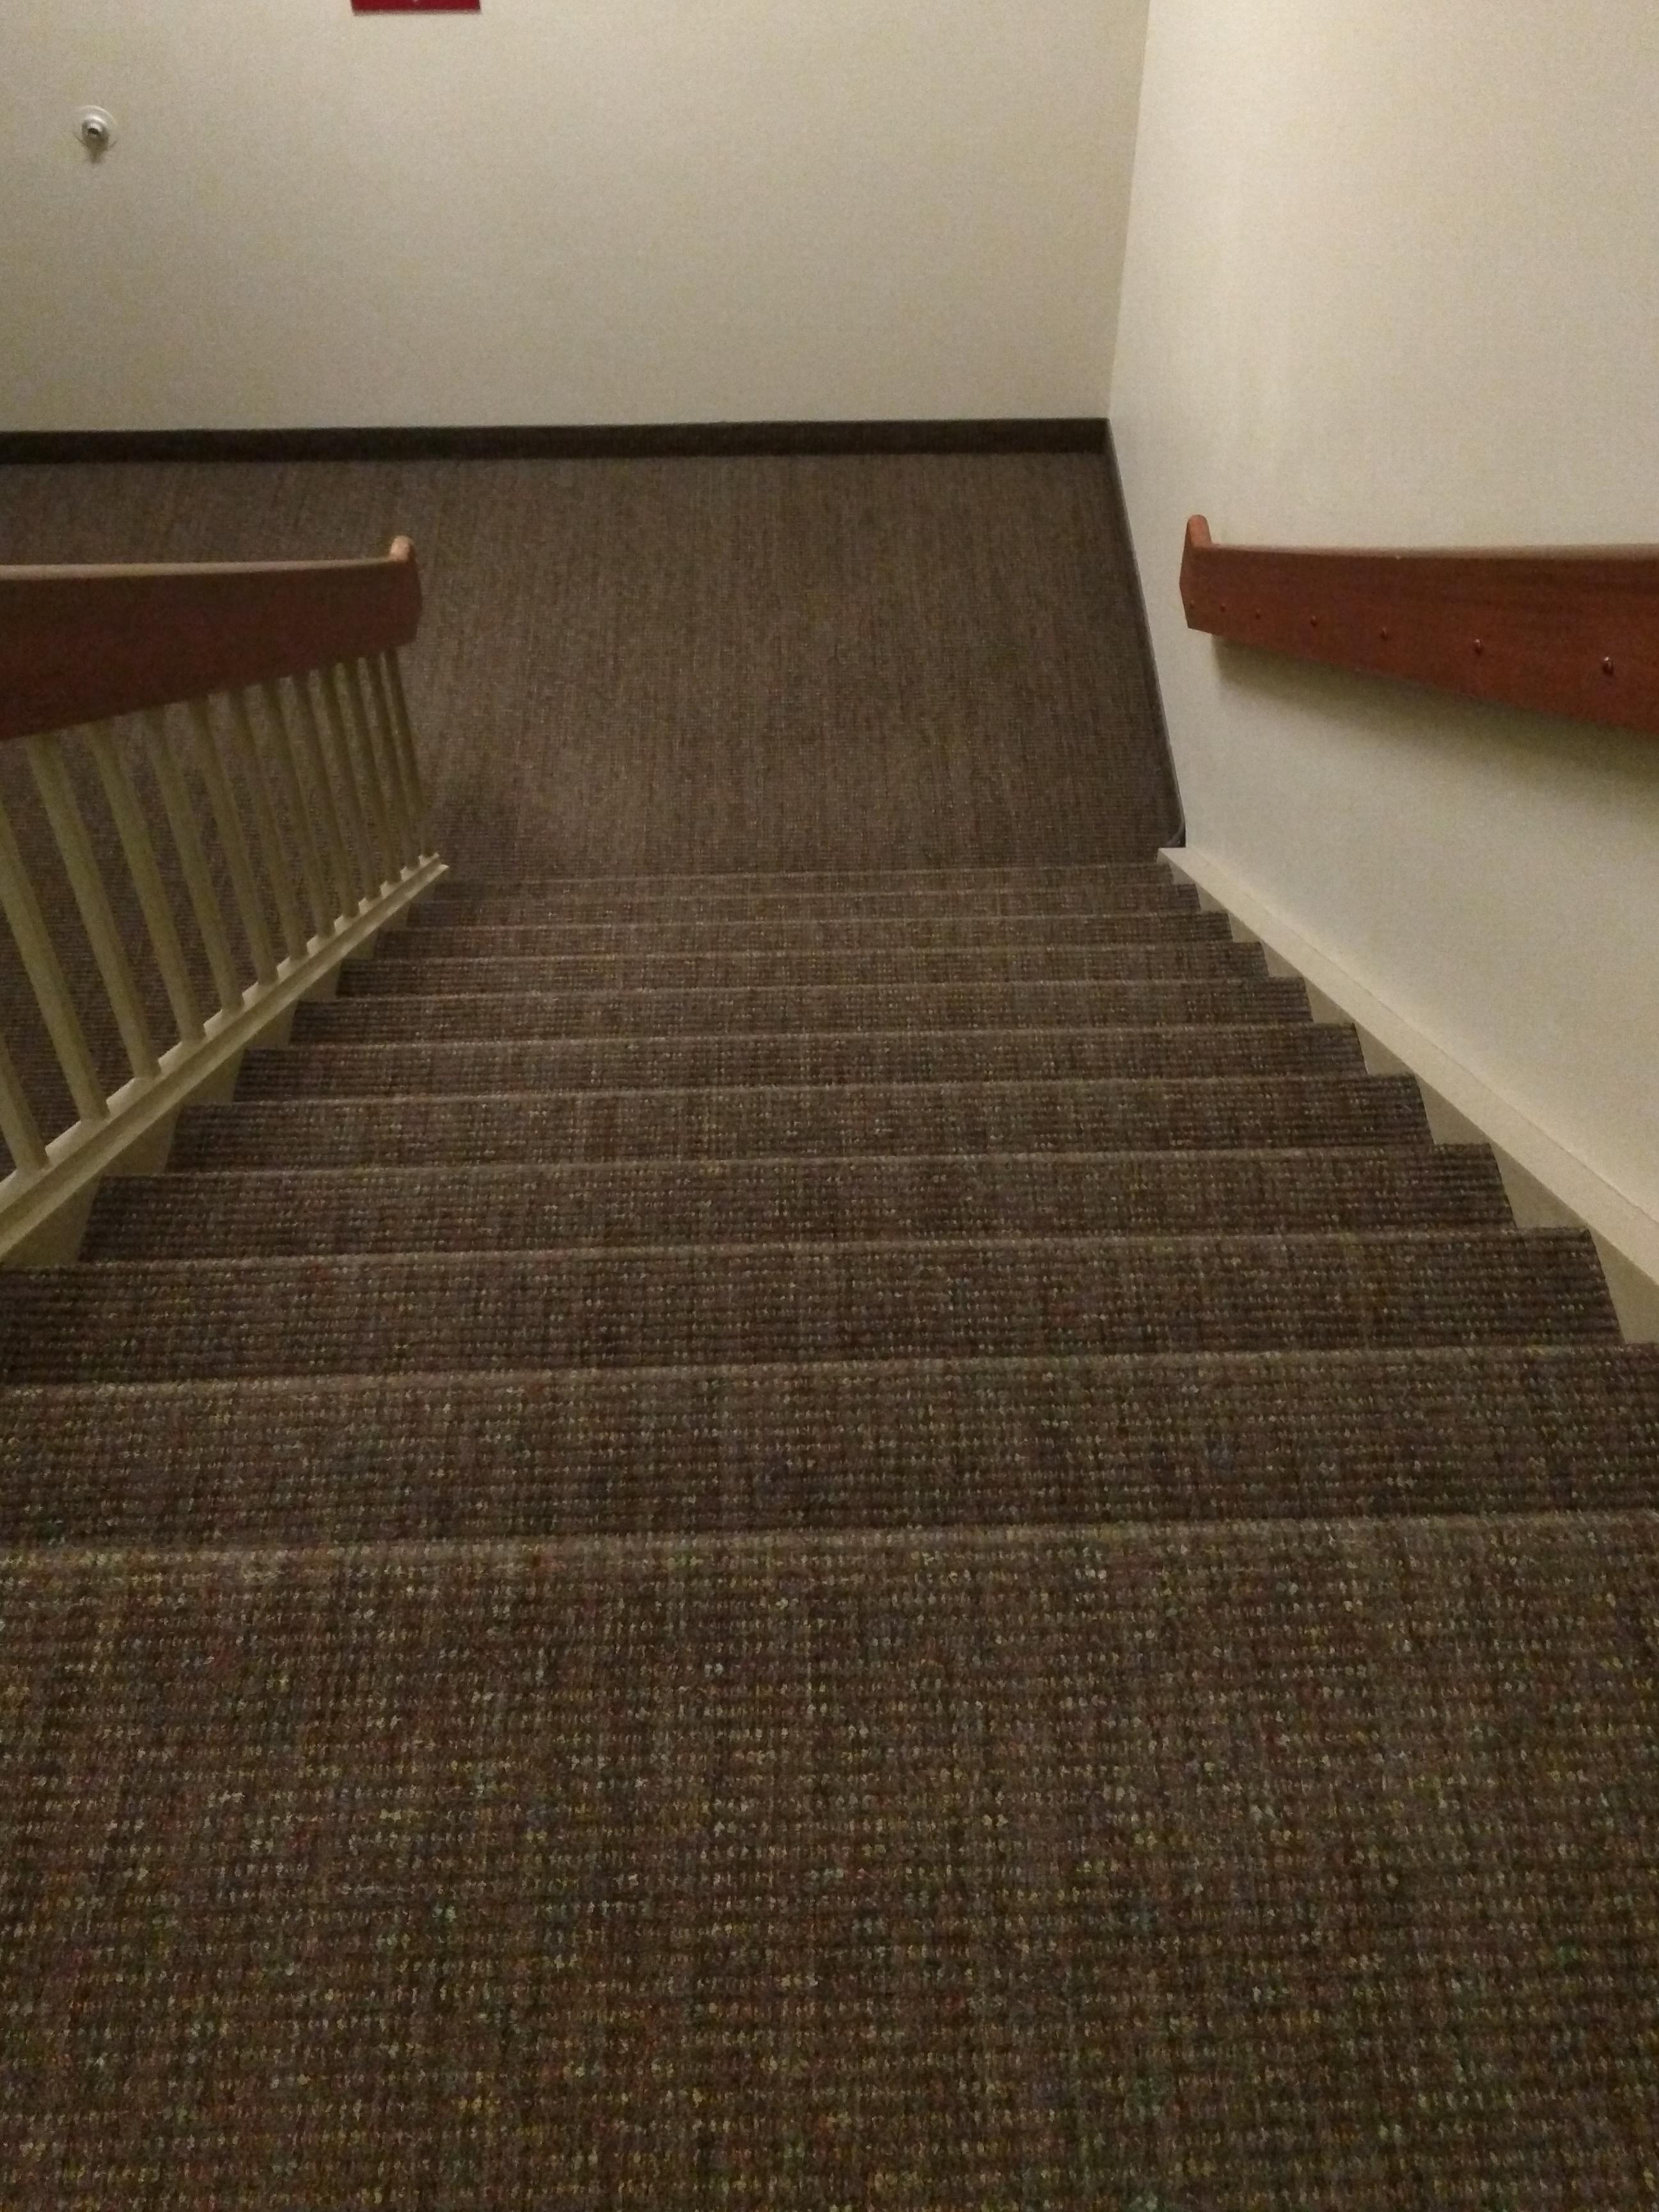stairs_down: (0, 837, 1659, 1666)
